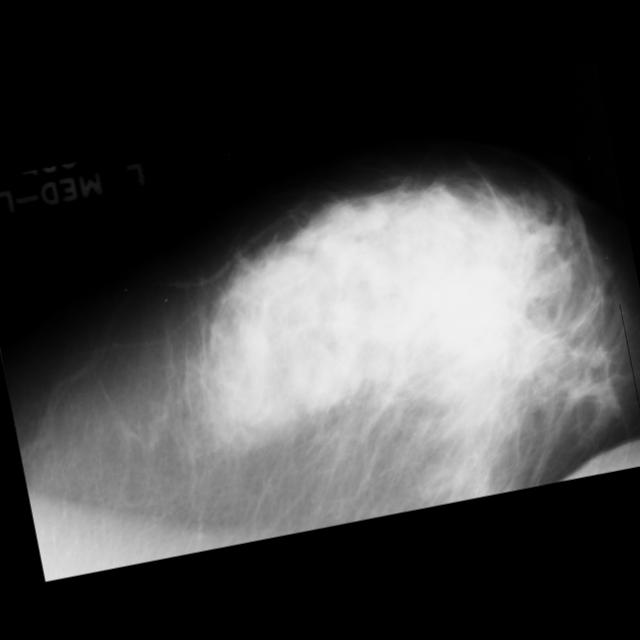ASYM: (0, 87, 512, 322)
